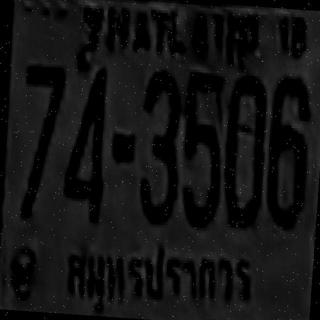N00: (218, 72, 268, 226)
N03: (135, 68, 183, 223)
N04: (60, 63, 108, 220)
N05: (178, 70, 226, 226)
N06: (262, 74, 312, 225)
N07: (15, 62, 64, 210)
P57: (58, 232, 256, 320)
